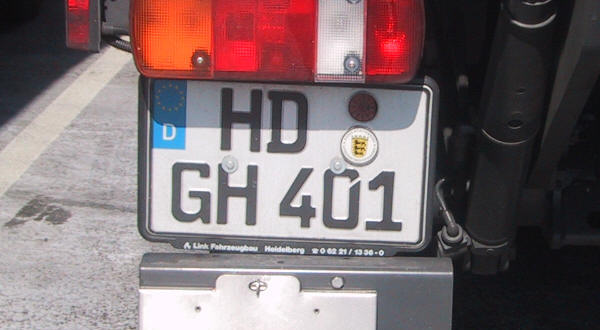license_plate: (144, 78, 432, 242)
